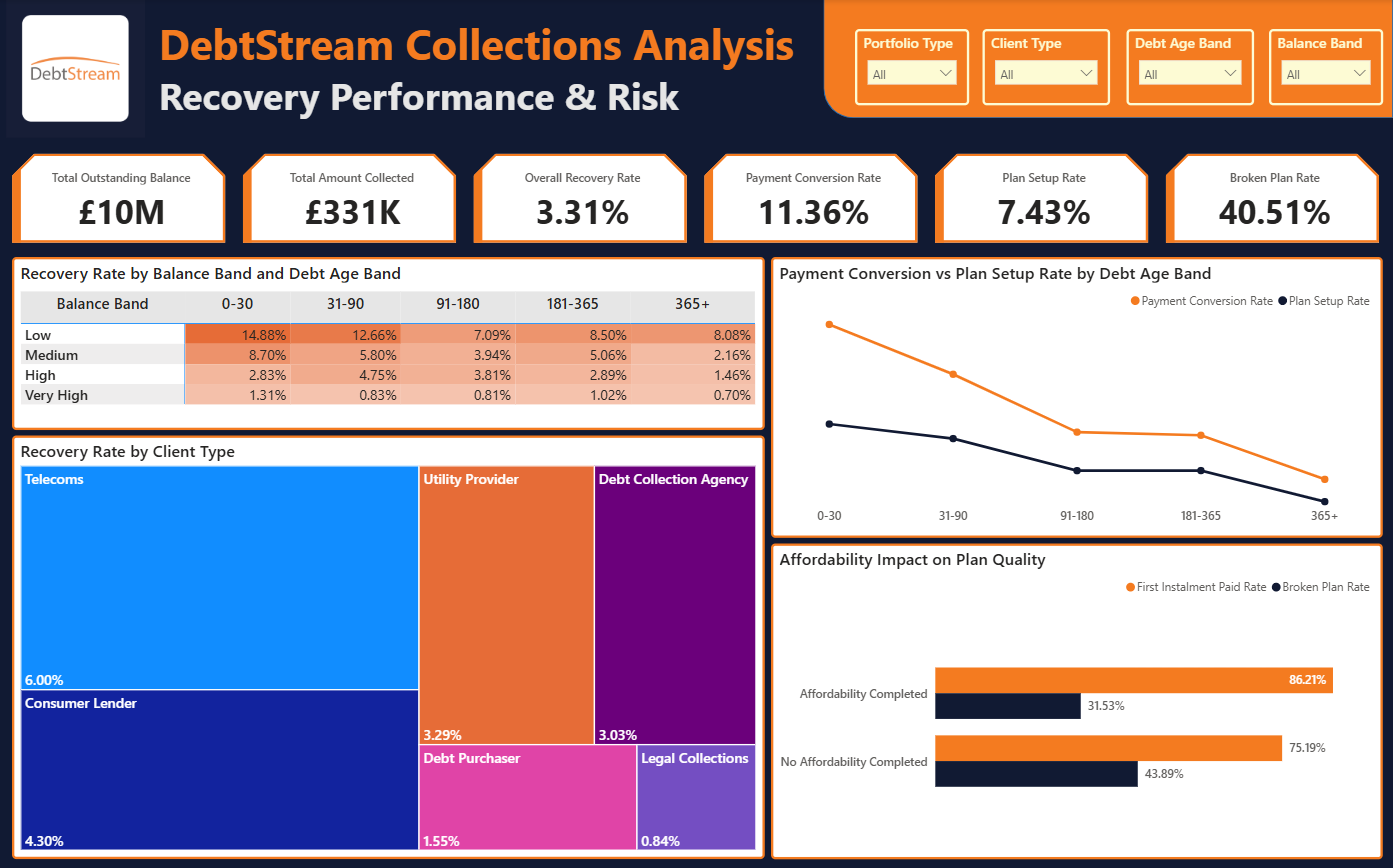

This screenshot's page, from the dashboard's own definition file:
{"tool":"powerbi","page":{"name":"Recovery & Risk","canvas":[1600,1000],"ordinal":2},"visuals":[{"type":"textbox","box":[180.2,12,748.3,147.6],"z":0},{"type":"image","box":[0,0,179.8,159],"z":1000},{"type":"cardVisual","fields":{"Data":["Key Measures.Total Outstanding Balance","Key Measures.Total Amount Collected","Key Measures.Overall Recovery Rate","Key Measures.Payment Conversion Rate","Key Measures.Plan Setup Rate","Key Measures.Broken Plan Rate"]},"box":[0,159,1599.4,136.3],"z":2000},{"type":"shape","box":[946.4,0,653,136.3],"z":3000},{"type":"slicer","title":"Client Type","fields":{"Values":["Fact Customer.client_type"]},"box":[1128.1,34.1,145.7,87.1],"z":5000},{"type":"slicer","title":"Debt Age Band","fields":{"Values":["Fact Customer.debt_age_band"]},"box":[1292.8,34.1,145.7,87.1],"z":6000},{"type":"slicer","title":"Portfolio Type","fields":{"Values":["Fact Customer.portfolio_type"]},"box":[982.3,34.1,130.6,87.1],"z":7000},{"type":"slicer","title":"Balance Band","fields":{"Values":["Fact Customer.balance_band"]},"box":[1455.5,34.1,130.6,87.1],"z":8000},{"type":"pivotTable","title":"Recovery Rate by Balance Band and Debt Age Band","fields":{"Rows":["Fact Customer.balance_band"],"Columns":["Fact Customer.debt_age_band"],"Values":["Key Measures.Overall Recovery Rate"]},"box":[17,295.3,861,198],"z":9000},{"type":"treemap","title":"Recovery Rate by Client Type","fields":{"Values":["Key Measures.Overall Recovery Rate"],"Group":["Fact Customer.client_type"]},"box":[17,499.7,861.2,484.5],"z":10000},{"type":"clusteredBarChart","title":"Affordability Impact on Plan Quality","fields":{"Category":["Fact Customer.Affordability Status"],"Y":["Key Measures.First Instalment Paid Rate","Key Measures.Broken Plan Rate"]},"box":[885.8,622.7,700.3,361.5],"z":11000},{"type":"lineChart","title":"Payment Conversion vs Plan Setup Rate by Debt Age Band","fields":{"Category":["Fact Customer.debt_age_band"],"Y":["Key Measures.Payment Conversion Rate","Key Measures.Plan Setup Rate"]},"box":[885.8,295.3,700.3,321.8],"z":12000}]}

Visuals, with their boxes in screenshot pixels (x1, y1, x2, y2), scaled from the page's 1600x1000 canvas onto the 1393x868 screenshot:
textbox: 157:10:808:139
image: 0:0:157:138
cardVisual - Key Measures.Total Outstanding Balance x Key Measures.Total Amount Collected: 0:138:1392:256
shape: 824:0:1392:118
"Client Type" slicer: 982:30:1109:105
"Debt Age Band" slicer: 1126:30:1252:105
"Portfolio Type" slicer: 855:30:969:105
"Balance Band" slicer: 1267:30:1381:105
"Recovery Rate by Balance Band and Debt Age Band" pivotTable: 15:256:764:428
"Recovery Rate by Client Type" treemap: 15:434:765:854
"Affordability Impact on Plan Quality" clusteredBarChart: 771:541:1381:854
"Payment Conversion vs Plan Setup Rate by Debt Age Band" lineChart: 771:256:1381:536
